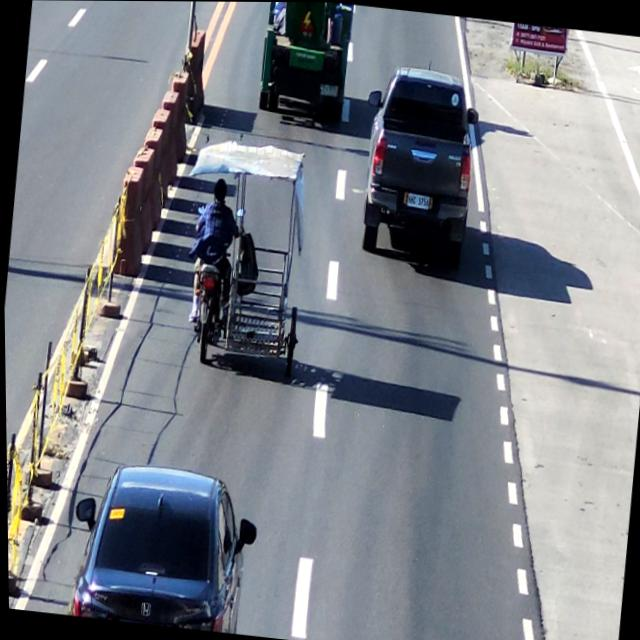Car: (70, 452, 258, 634), (354, 59, 485, 274)
License-Plate: (403, 189, 434, 209), (318, 83, 339, 98)
Tricycle: (173, 132, 327, 386)
Truck: (255, 1, 354, 119)
